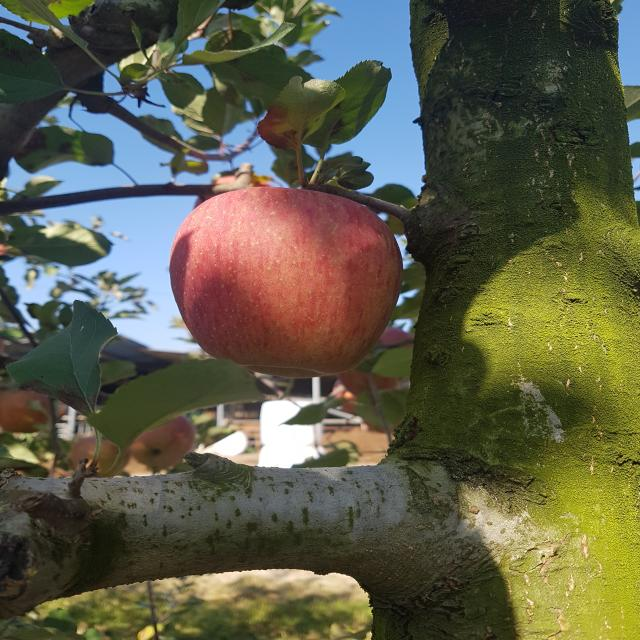fresh: (163, 177, 414, 383)
